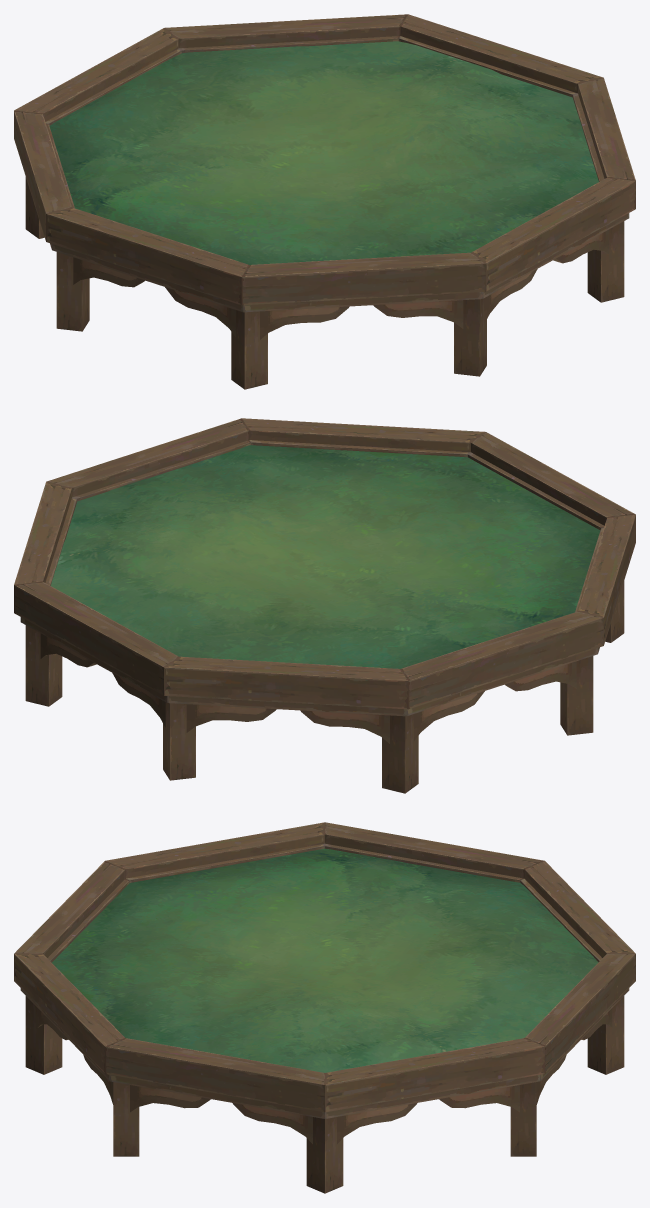
File: Homeworld_Ani_Exterior_Xm_Thing_Prop_MachineButterfly_02_Vo.fbx
3 views of the same model, one above another, from view 1: azimuth 30°, elevation 25°; view 2: azimuth 150°, elevation 25°; view 3: azimuth 270°, elevation 25° (orthographic). The views are drawn at different scales.
Visible parts, largest first — view 1: Homeworld_Ani_Exterior_Xm_Thing_Prop_MachineButterfly_02_Vo; view 2: Homeworld_Ani_Exterior_Xm_Thing_Prop_MachineButterfly_02_Vo; view 3: Homeworld_Ani_Exterior_Xm_Thing_Prop_MachineButterfly_02_Vo.
Part boxes in pixels (bbox=[...]): Homeworld_Ani_Exterior_Xm_Thing_Prop_MachineButterfly_02_Vo: bbox=[14, 14, 635, 389]; Homeworld_Ani_Exterior_Xm_Thing_Prop_MachineButterfly_02_Vo: bbox=[14, 418, 635, 793]; Homeworld_Ani_Exterior_Xm_Thing_Prop_MachineButterfly_02_Vo: bbox=[14, 822, 635, 1193].
Size of the model in its own units: 2.36 by 0.4984 by 2.36.
1 material, 1 textured.
